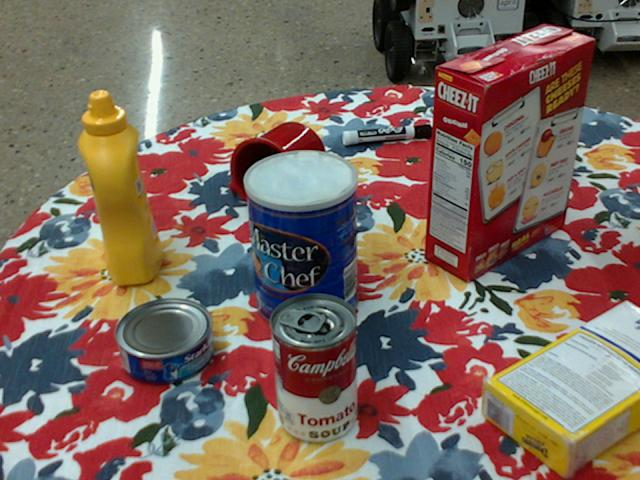cracker_box: (428, 25, 595, 282)
gelatin_box: (500, 128, 566, 182)
large_marker: (341, 122, 434, 144)
master_chef_can: (242, 149, 356, 332)
mug: (228, 121, 325, 216)
mustard_bottle: (78, 91, 162, 286)
sugar_box: (482, 299, 639, 477)
tomato_soup_can: (268, 292, 356, 443)
tuna_fish_can: (112, 297, 211, 382)
